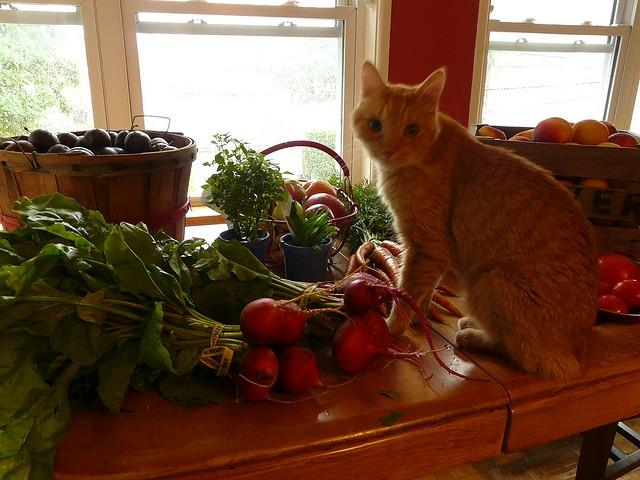apple: (306, 193, 348, 218), (272, 200, 302, 232), (302, 179, 338, 201), (270, 232, 290, 268), (306, 204, 336, 227), (293, 184, 308, 207), (277, 182, 295, 198)
carrot: (368, 254, 457, 332), (394, 256, 462, 298), (372, 247, 400, 281), (432, 290, 464, 316), (374, 240, 407, 257), (354, 242, 374, 266), (344, 255, 358, 278), (376, 302, 389, 318)
peach: (532, 117, 574, 144), (572, 119, 609, 146), (607, 132, 638, 148), (476, 126, 506, 140), (579, 177, 611, 188), (598, 120, 618, 137), (508, 136, 533, 142), (596, 142, 622, 147), (560, 175, 578, 181), (568, 122, 576, 128)
tomato: (597, 253, 640, 287), (306, 193, 348, 219), (612, 279, 640, 310), (600, 295, 628, 314), (599, 280, 613, 296)
